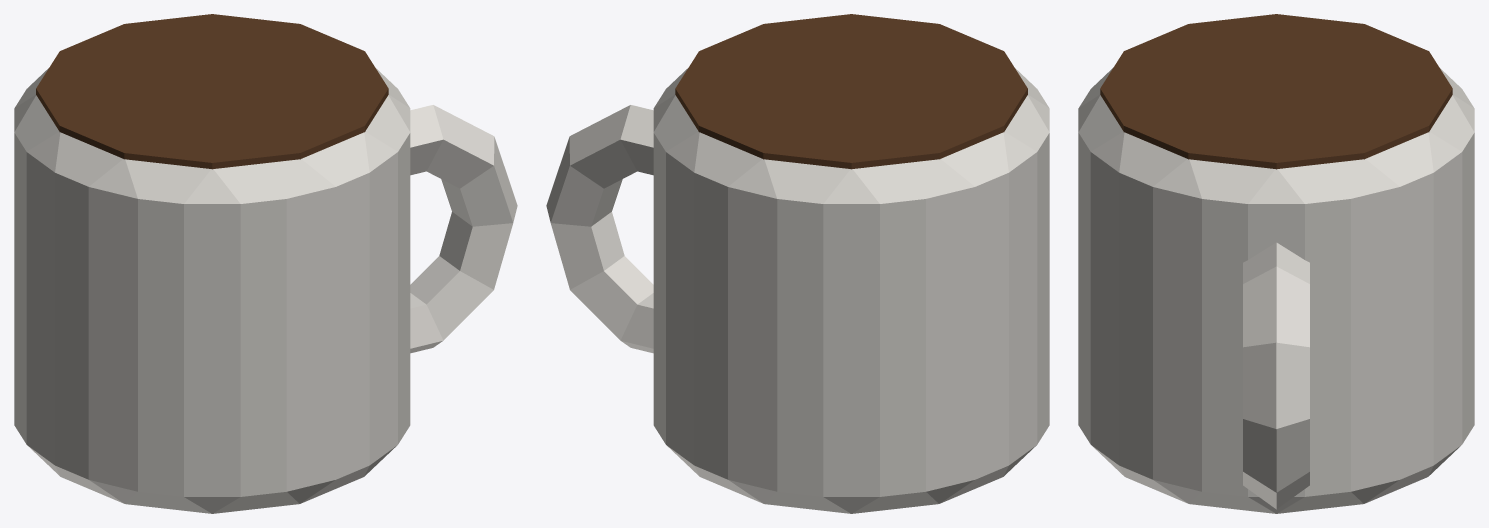
The model's file is mug.glb.
3 renders of one model, left to right at view 1: azimuth 30°, elevation 25°; view 2: azimuth 150°, elevation 25°; view 3: azimuth 270°, elevation 25°, orthographic.
Visible parts, largest first — view 1: mug; view 2: mug; view 3: mug.
Part boxes in pixels (left/top/right/bottom): mug: left=14, top=14, right=517, bottom=513; mug: left=546, top=14, right=1049, bottom=513; mug: left=1078, top=14, right=1474, bottom=513.
Size of the model in its own units: 0.1874 by 0.132 by 0.1348.
